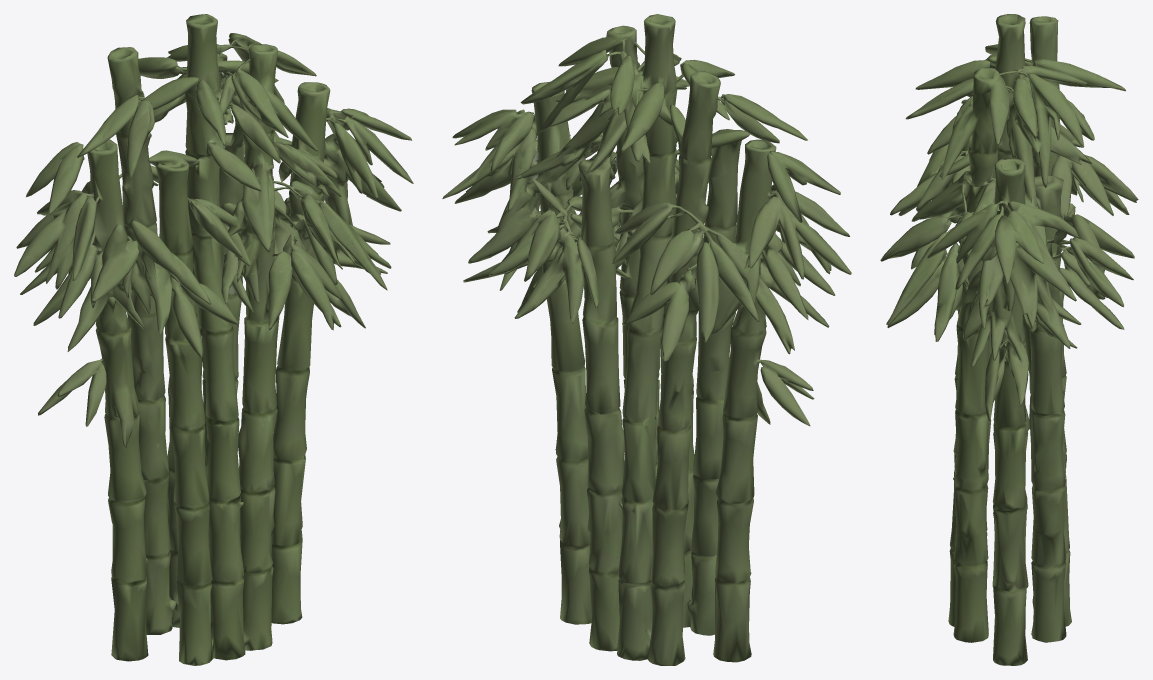
The model's file is bamboo-3.glb.
The picture shows the model from 3 angles, left to right: view 1: azimuth 30°, elevation 25°; view 2: azimuth 150°, elevation 25°; view 3: azimuth 270°, elevation 25°; orthographic projection. The views are drawn at different scales.
Bounding box in the file's own units: 1.28 × 1.9 × 0.7411.
1 material, 1 textured.
